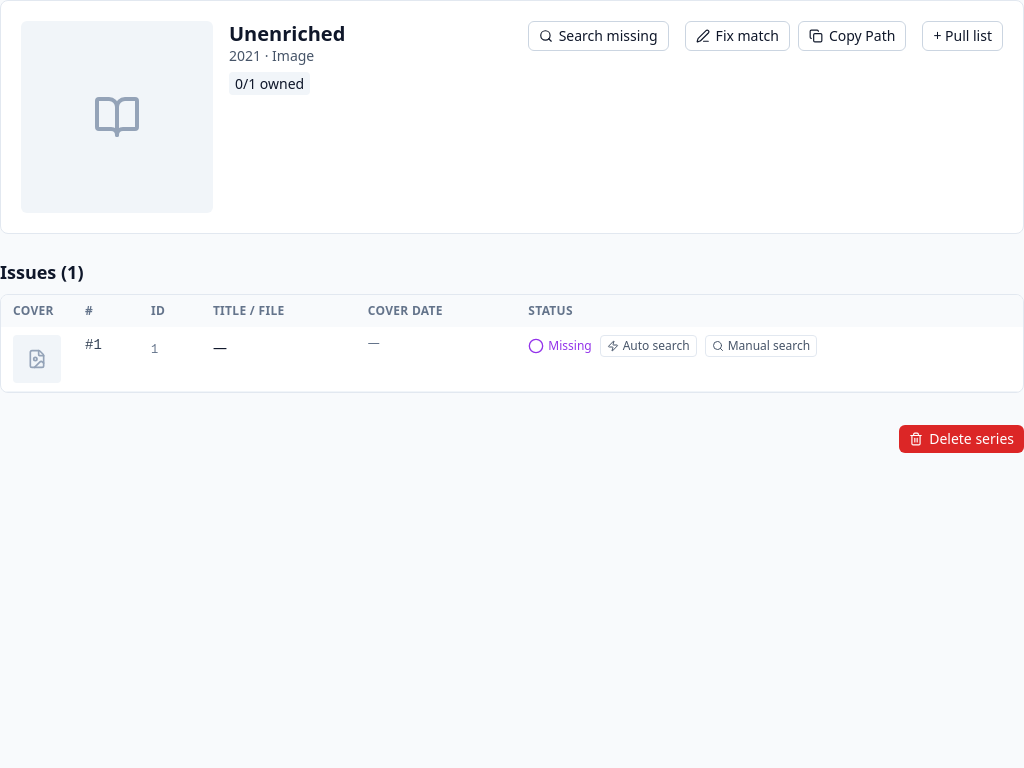
Test: series detail page › opens the modal on owned_file_count > 0 even when issues[].file is empty
Click the button "Delete series": point(962, 439) 899,425 -> 1023,453
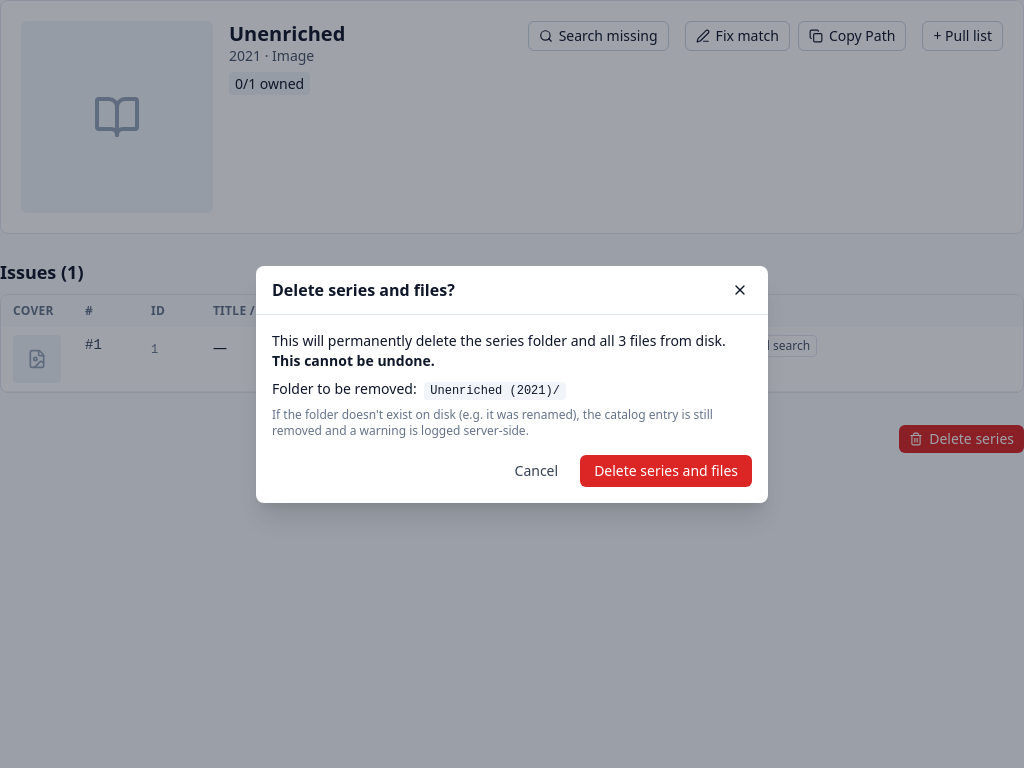
Expected: the text "Folder to be removed: Unenriched (2021)/" is shown, 272,378 -> 566,400
Expected: the text "3 files from disk" is shown, 272,330 -> 726,350
